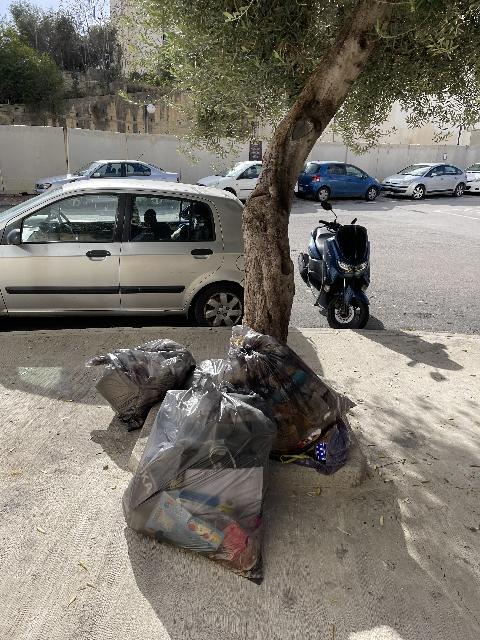Recyclable -Grey-: (122, 375, 277, 580), (213, 325, 355, 464), (86, 339, 196, 431), (295, 417, 350, 475), (191, 359, 226, 386)
